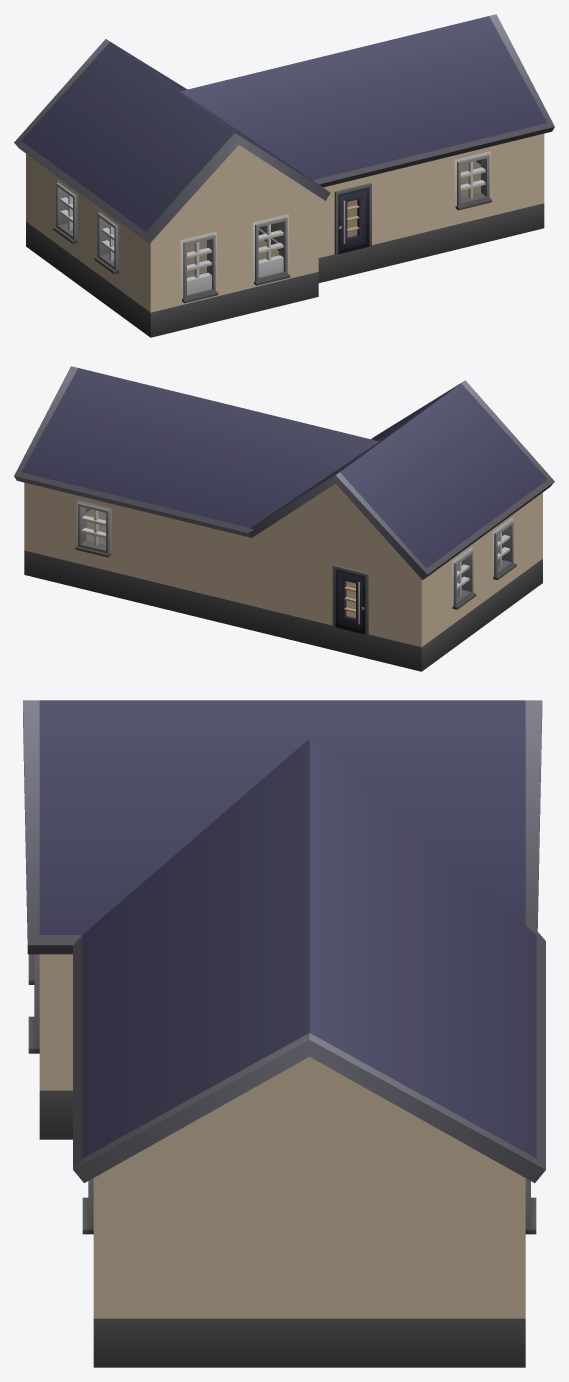
The model's file is OneStoryHouse.fbx.
The picture shows the model from 3 angles, top to bottom: view 1: azimuth 30°, elevation 25°; view 2: azimuth 150°, elevation 25°; view 3: azimuth 270°, elevation 25°; orthographic projection. The views are drawn at different scales.
Parts seen in each view (by area): view 1: OneStoryHouse; view 2: OneStoryHouse; view 3: OneStoryHouse.
Part boxes in pixels (<box>): OneStoryHouse: <box>14,14,554,337</box>; OneStoryHouse: <box>14,366,554,671</box>; OneStoryHouse: <box>23,700,545,1367</box>.
Size of the model in its own units: 17.69 by 7.34 by 9.69.
